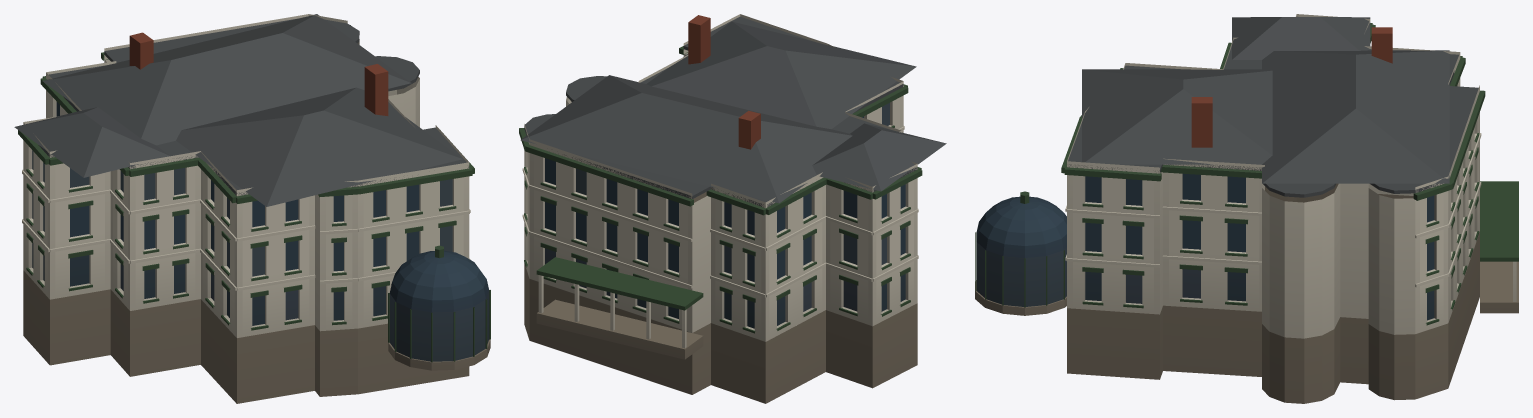
Rendered from deerewiman.glb.
3 views of the same model, side by side, from view 1: azimuth 30°, elevation 25°; view 2: azimuth 150°, elevation 25°; view 3: azimuth 270°, elevation 25° (orthographic). The views are drawn at different scales.
Parts seen in each view (by area): view 1: deerewiman_lod0; view 2: deerewiman_lod0; view 3: deerewiman_lod0.
Boxes of the visible parts, box(x1,y1,x2,y2) form: deerewiman_lod0: box(14, 14, 490, 403); deerewiman_lod0: box(519, 14, 946, 403); deerewiman_lod0: box(975, 14, 1518, 403).
Size of what is drawn, in the model's own units: 28.36 by 19.2 by 36.21.
